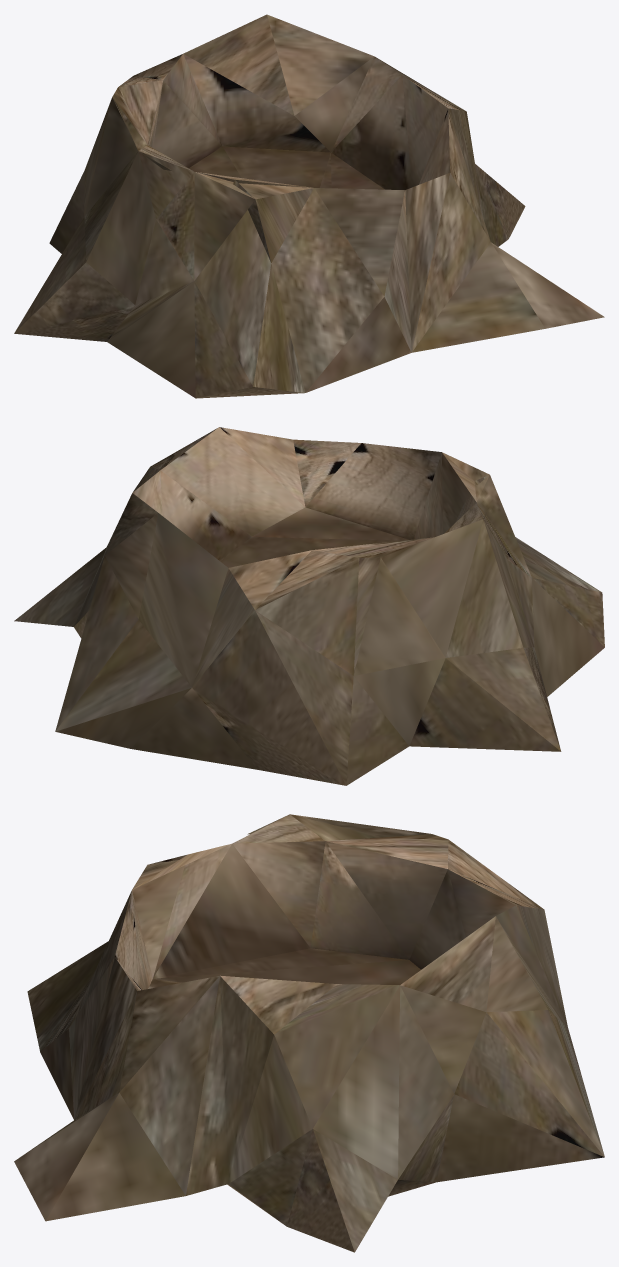
The model's file is co_hollow_stump_lod2.glb.
3 views of the same model, one above another, from view 1: azimuth 30°, elevation 25°; view 2: azimuth 150°, elevation 25°; view 3: azimuth 270°, elevation 25° (orthographic). The views are drawn at different scales.
Parts seen in each view (by area): view 1: output_unwrapped; view 2: output_unwrapped; view 3: output_unwrapped.
Boxes of the visible parts, left/top/right/bottom form: output_unwrapped: left=14, top=14, right=604, bottom=398; output_unwrapped: left=14, top=427, right=604, bottom=785; output_unwrapped: left=14, top=814, right=604, bottom=1252.
Bounding box in the file's own units: 1.82 × 0.6603 × 1.57.
1 material, 1 textured.
